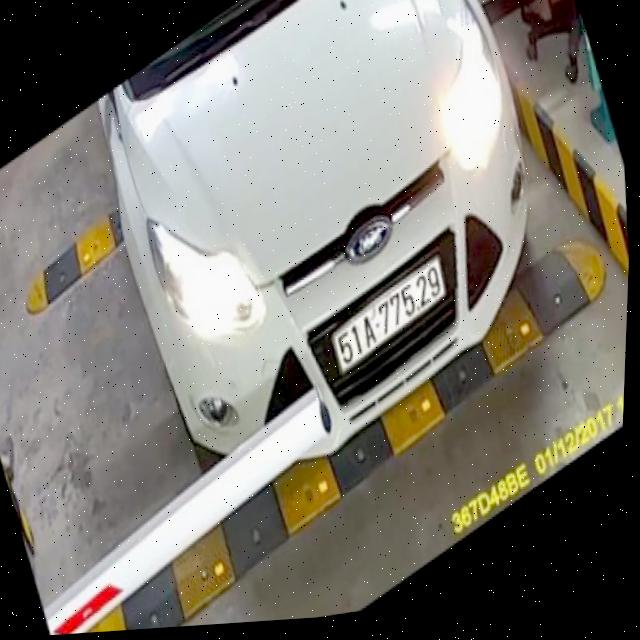car: (73, 0, 567, 498)
plate: (324, 250, 456, 377)
